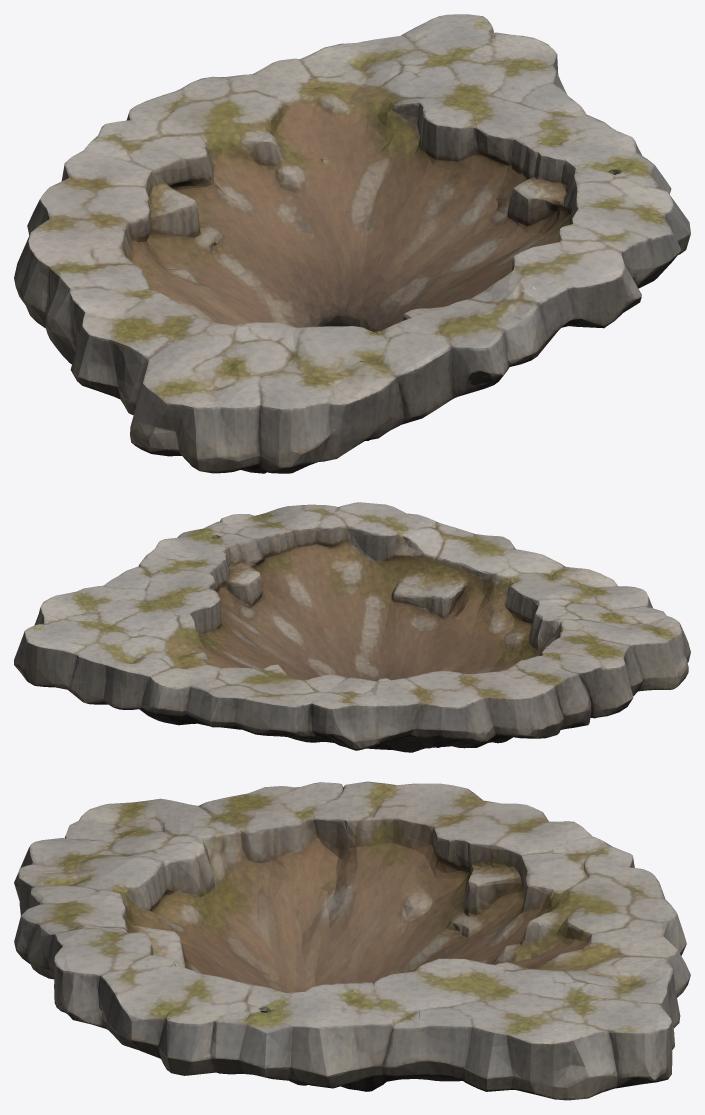
3 renders of one model, top to bottom at view 1: azimuth 30°, elevation 25°; view 2: azimuth 150°, elevation 25°; view 3: azimuth 270°, elevation 25°, orthographic. The views are drawn at different scales.
Parts seen in each view (by area): view 1: world; view 2: world; view 3: world.
Boxes of the visible parts, bbox=[...] form: world: bbox=[14, 14, 690, 473]; world: bbox=[14, 502, 690, 752]; world: bbox=[14, 781, 690, 1100].
Size of the model in its own units: 0.9959 by 0.2919 by 0.9384.
Materials: 1 (1 with a texture image).
